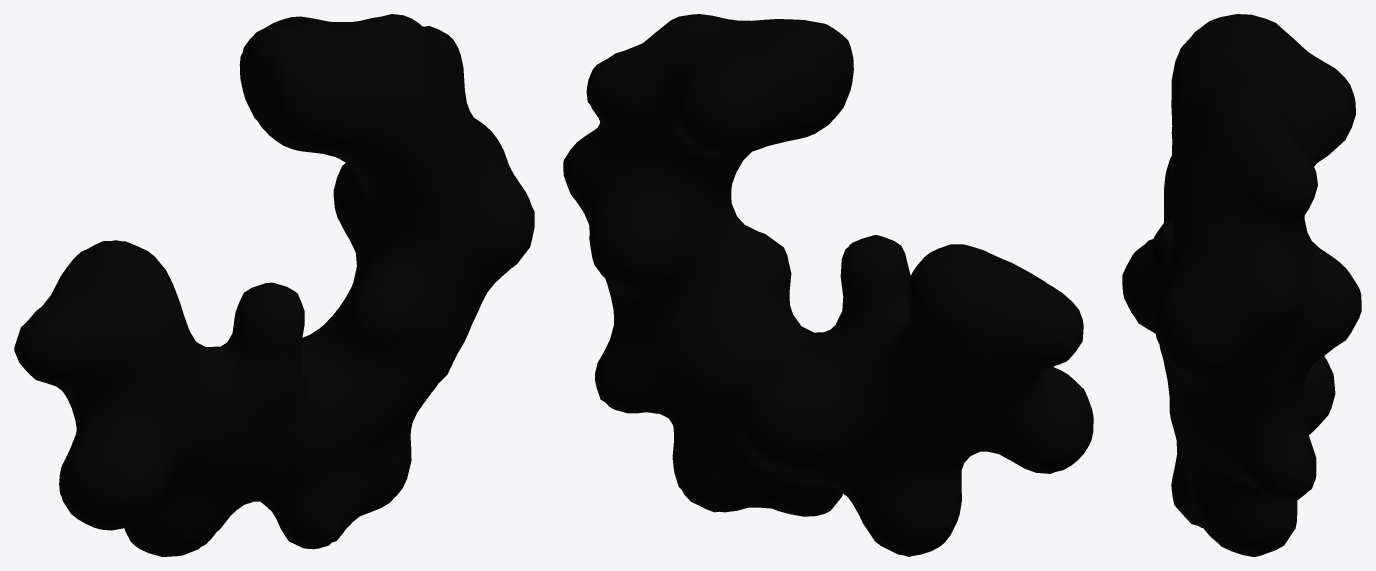
Rendered from pendiente_coral.glb.
3 renders of one model, left to right at view 1: azimuth 30°, elevation 25°; view 2: azimuth 150°, elevation 25°; view 3: azimuth 270°, elevation 25°, orthographic.
Parts seen in each view (by area): view 1: pendiente_circular_4; view 2: pendiente_circular_4; view 3: pendiente_circular_4.
Part boxes in pixels (<box>): pendiente_circular_4: <box>14,14,534,556</box>; pendiente_circular_4: <box>563,14,1093,556</box>; pendiente_circular_4: <box>1122,14,1361,556</box>.
Size of the model in its own units: 46.59 by 45.26 by 19.52.
1 material, 1 textured.
